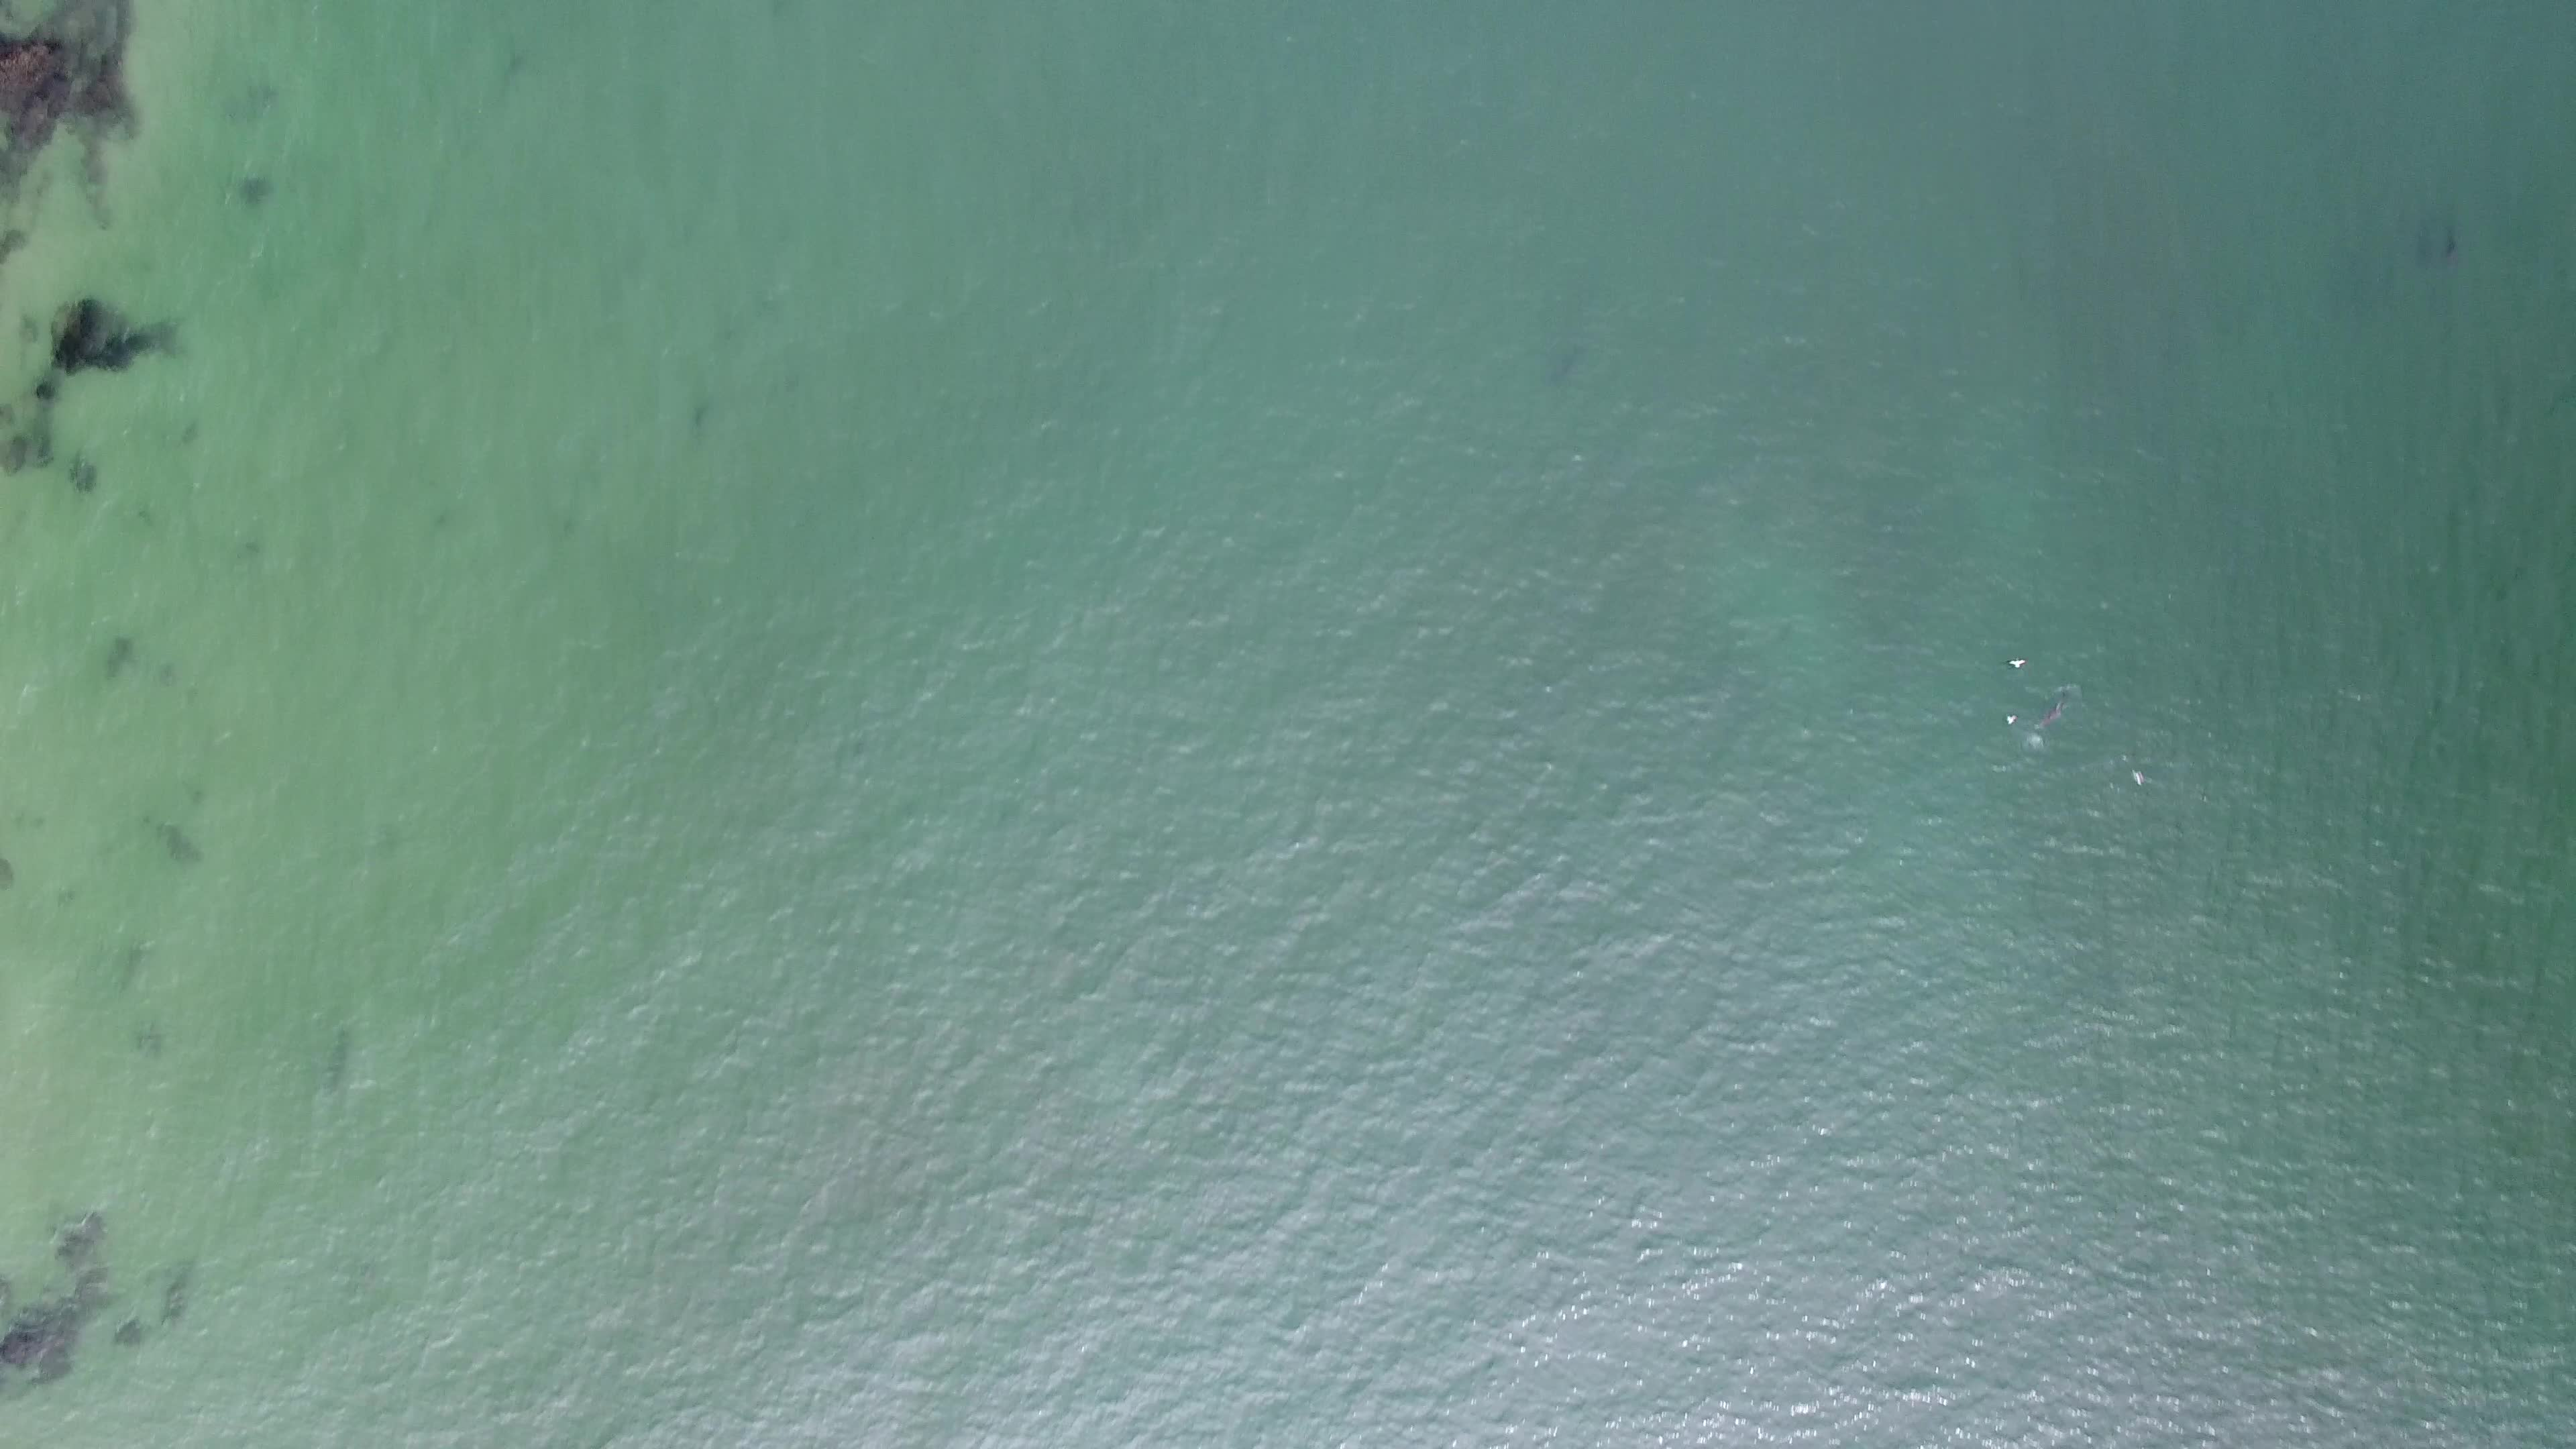dolphin: (2017, 679, 2088, 747)
